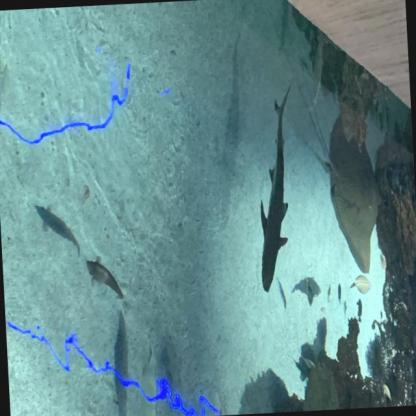fish: (33, 200, 81, 260), (85, 254, 129, 306), (275, 276, 288, 312), (352, 274, 373, 296), (304, 278, 314, 309), (0, 57, 5, 112), (356, 298, 364, 324), (336, 282, 343, 304)
shark: (252, 99, 293, 293)
stingray: (326, 108, 386, 276)
